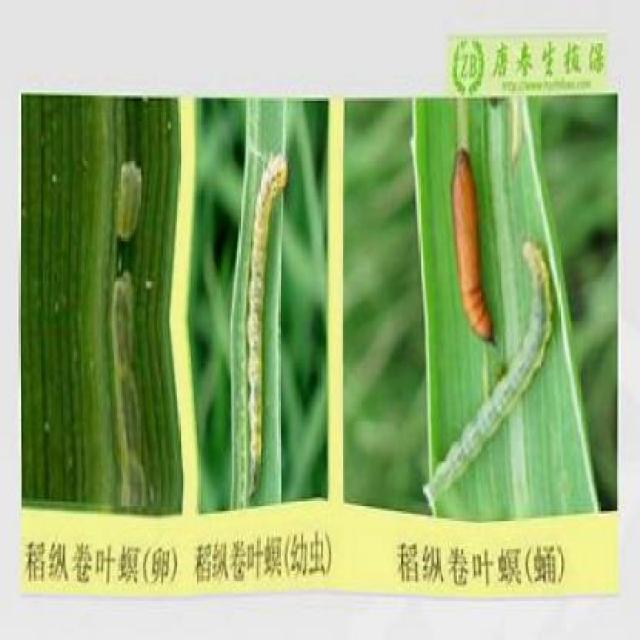leaf-folder: (416, 135, 564, 467), (233, 146, 293, 477), (110, 148, 158, 502)
